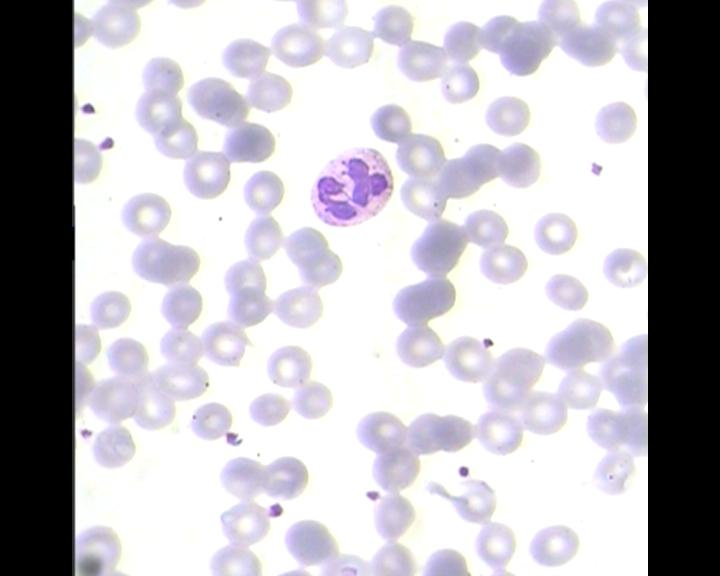neut: (302, 144, 395, 231)
